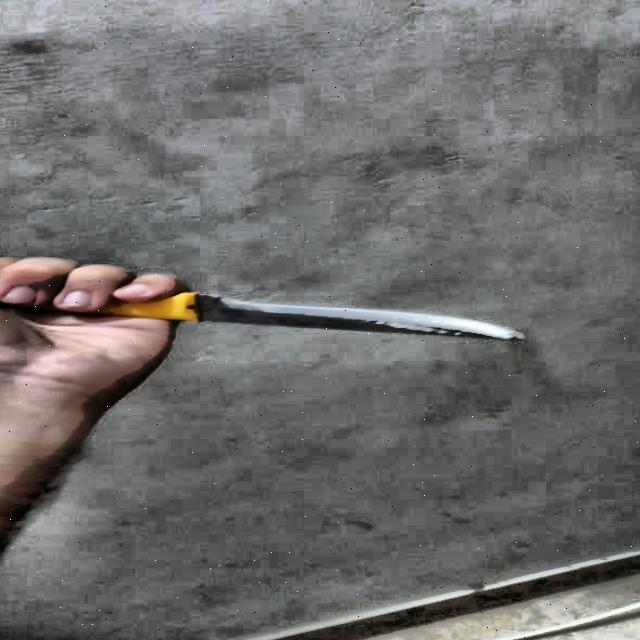knife: (46, 293, 523, 341)
